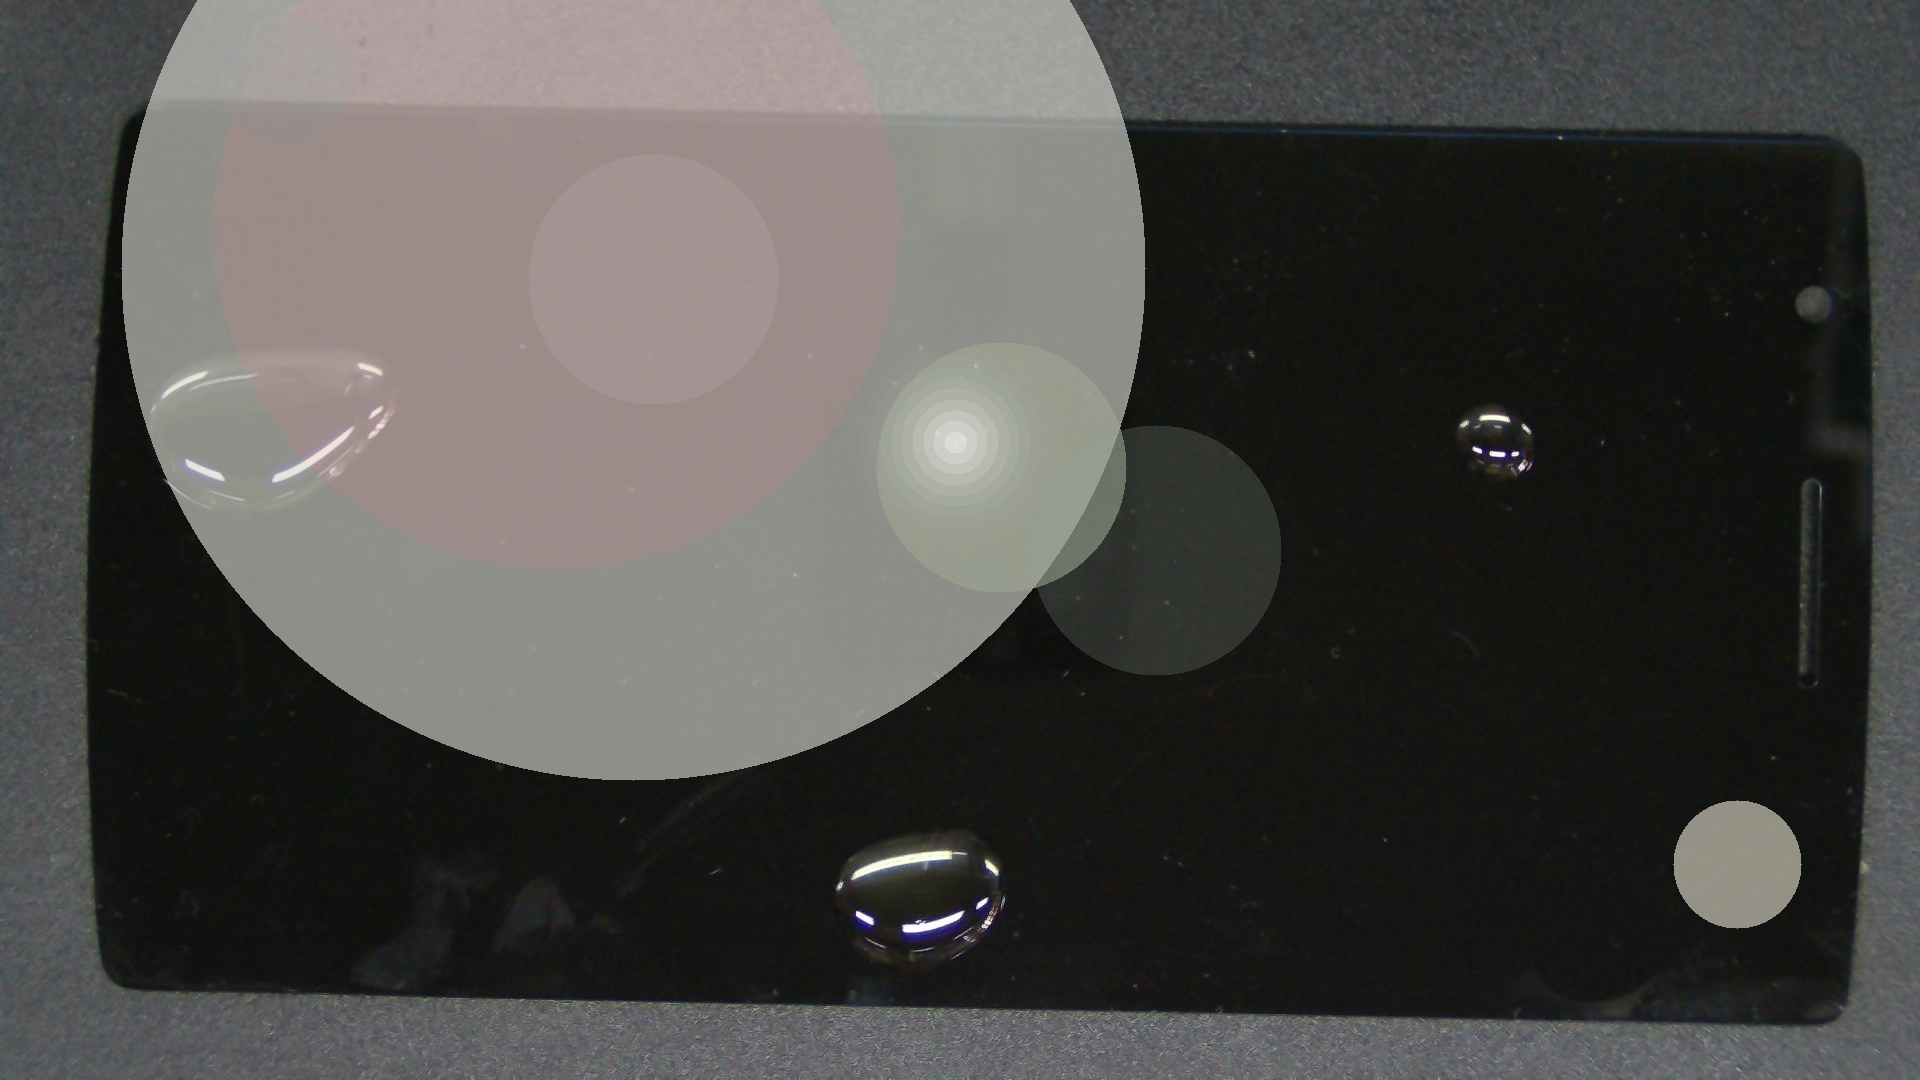oil: (481, 413, 1441, 1080), (744, 200, 1920, 605), (162, 174, 485, 524)
